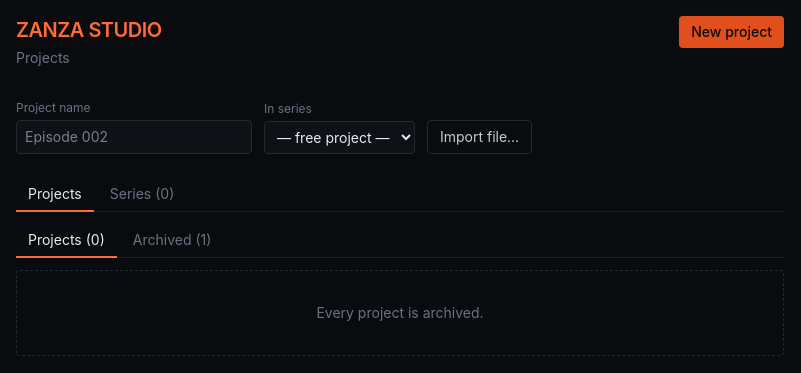
Test: ProjectBrowser › offers to restore an archived project
This screenshot has width=801, height=373.
Click the button "Archived (1)". click: x=172, y=241
box: [121,224,223,258]
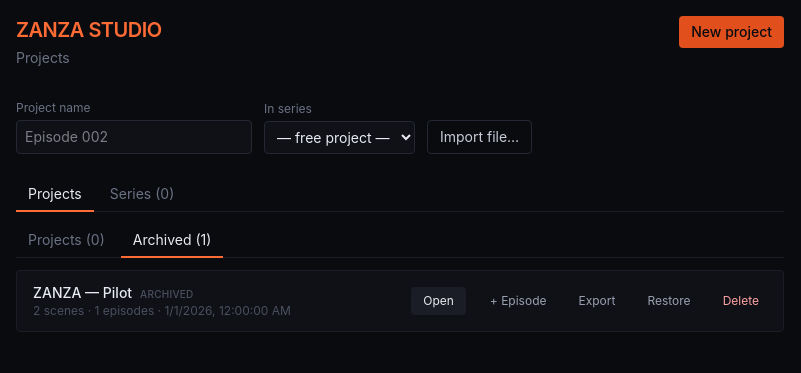
Now the button "Restore" is shown, box [639,287,699,315]
